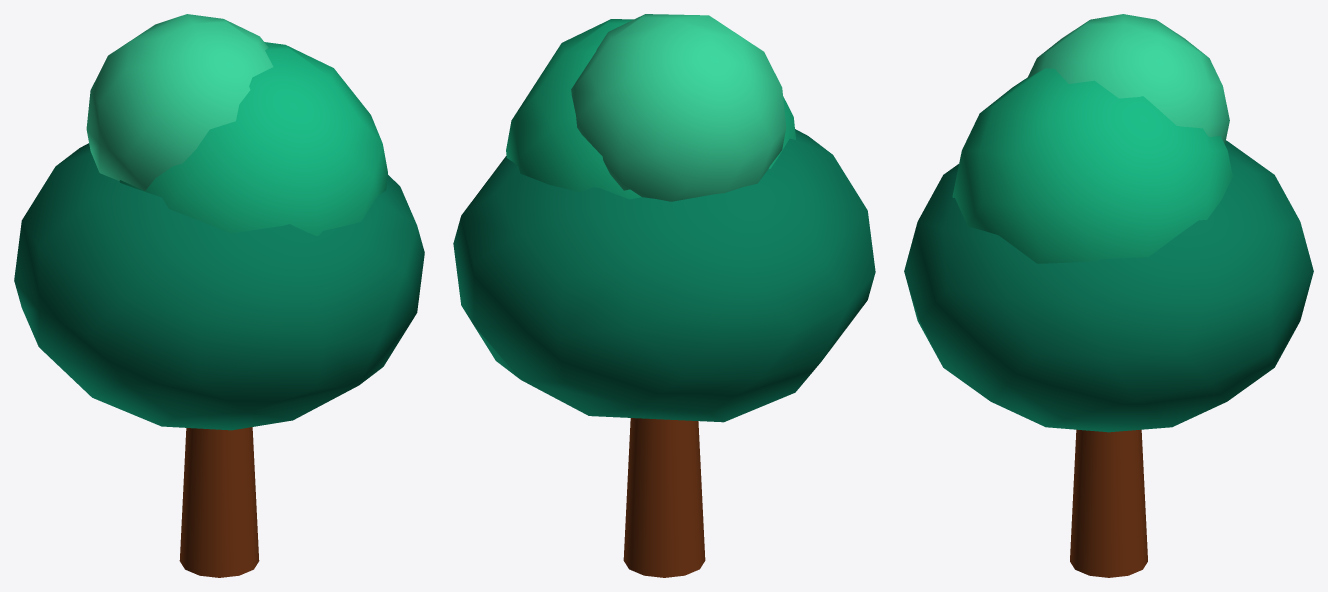
File: tree.glb
3 views of the same model, side by side, from view 1: azimuth 30°, elevation 25°; view 2: azimuth 150°, elevation 25°; view 3: azimuth 270°, elevation 25° (orthographic). The views are drawn at different scales.
Visible parts, largest first — view 1: TreeModel; view 2: TreeModel; view 3: TreeModel.
Part boxes in pixels (bbox=[...]): TreeModel: bbox=[14, 14, 424, 577]; TreeModel: bbox=[453, 14, 875, 577]; TreeModel: bbox=[904, 14, 1313, 577].
Bounding box in the file's own units: 5.76 × 8.2 × 5.76.
